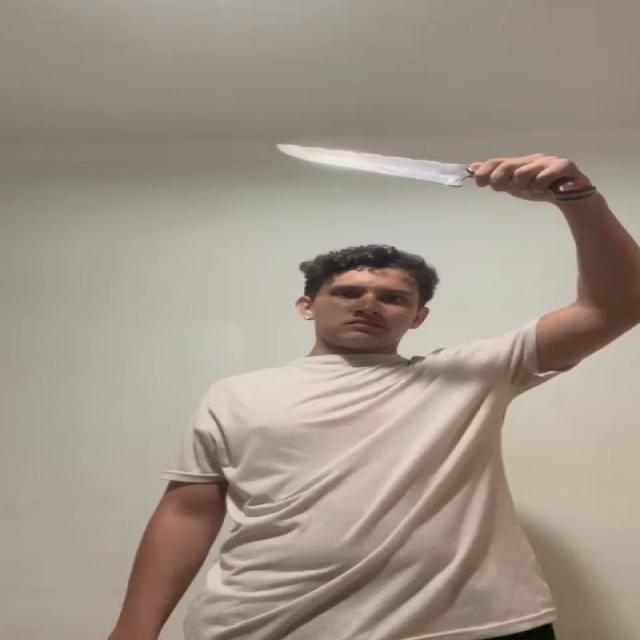knife: (275, 143, 462, 184)
